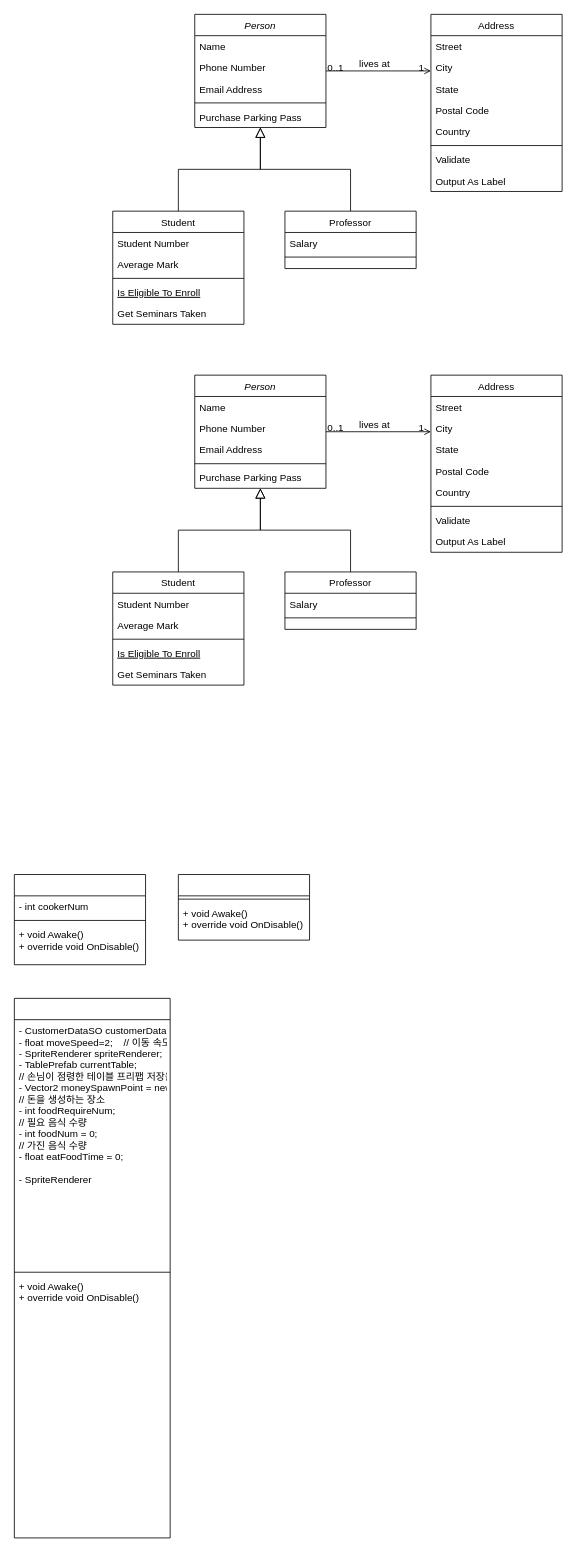
Some shapes in this 576 by 1555 pixel diagram are drawn without their labels. Each missing label, with the box of its shape:
CookerVillian : Villian: (14, 874, 146, 965)
CounterVillian : Villian: (178, 874, 310, 940)
CustomerPrefab: (14, 998, 170, 1538)
